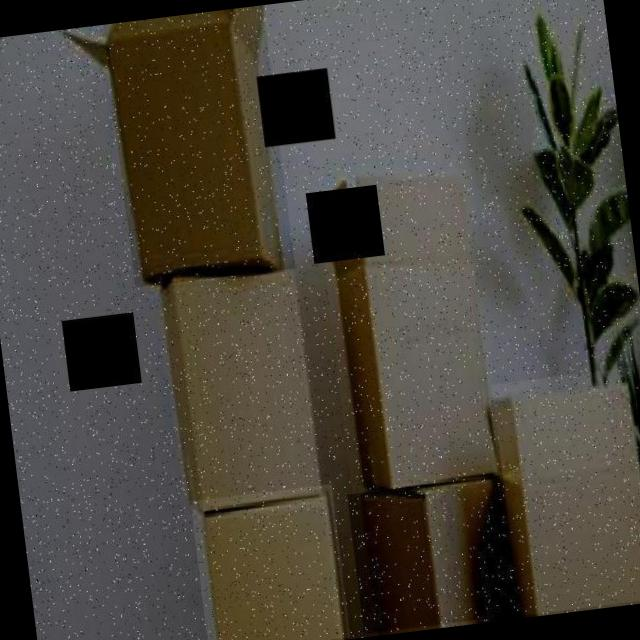box: (314, 168, 501, 497), (103, 4, 295, 288), (154, 256, 328, 524), (491, 366, 640, 615), (347, 476, 514, 634), (190, 483, 350, 640)
